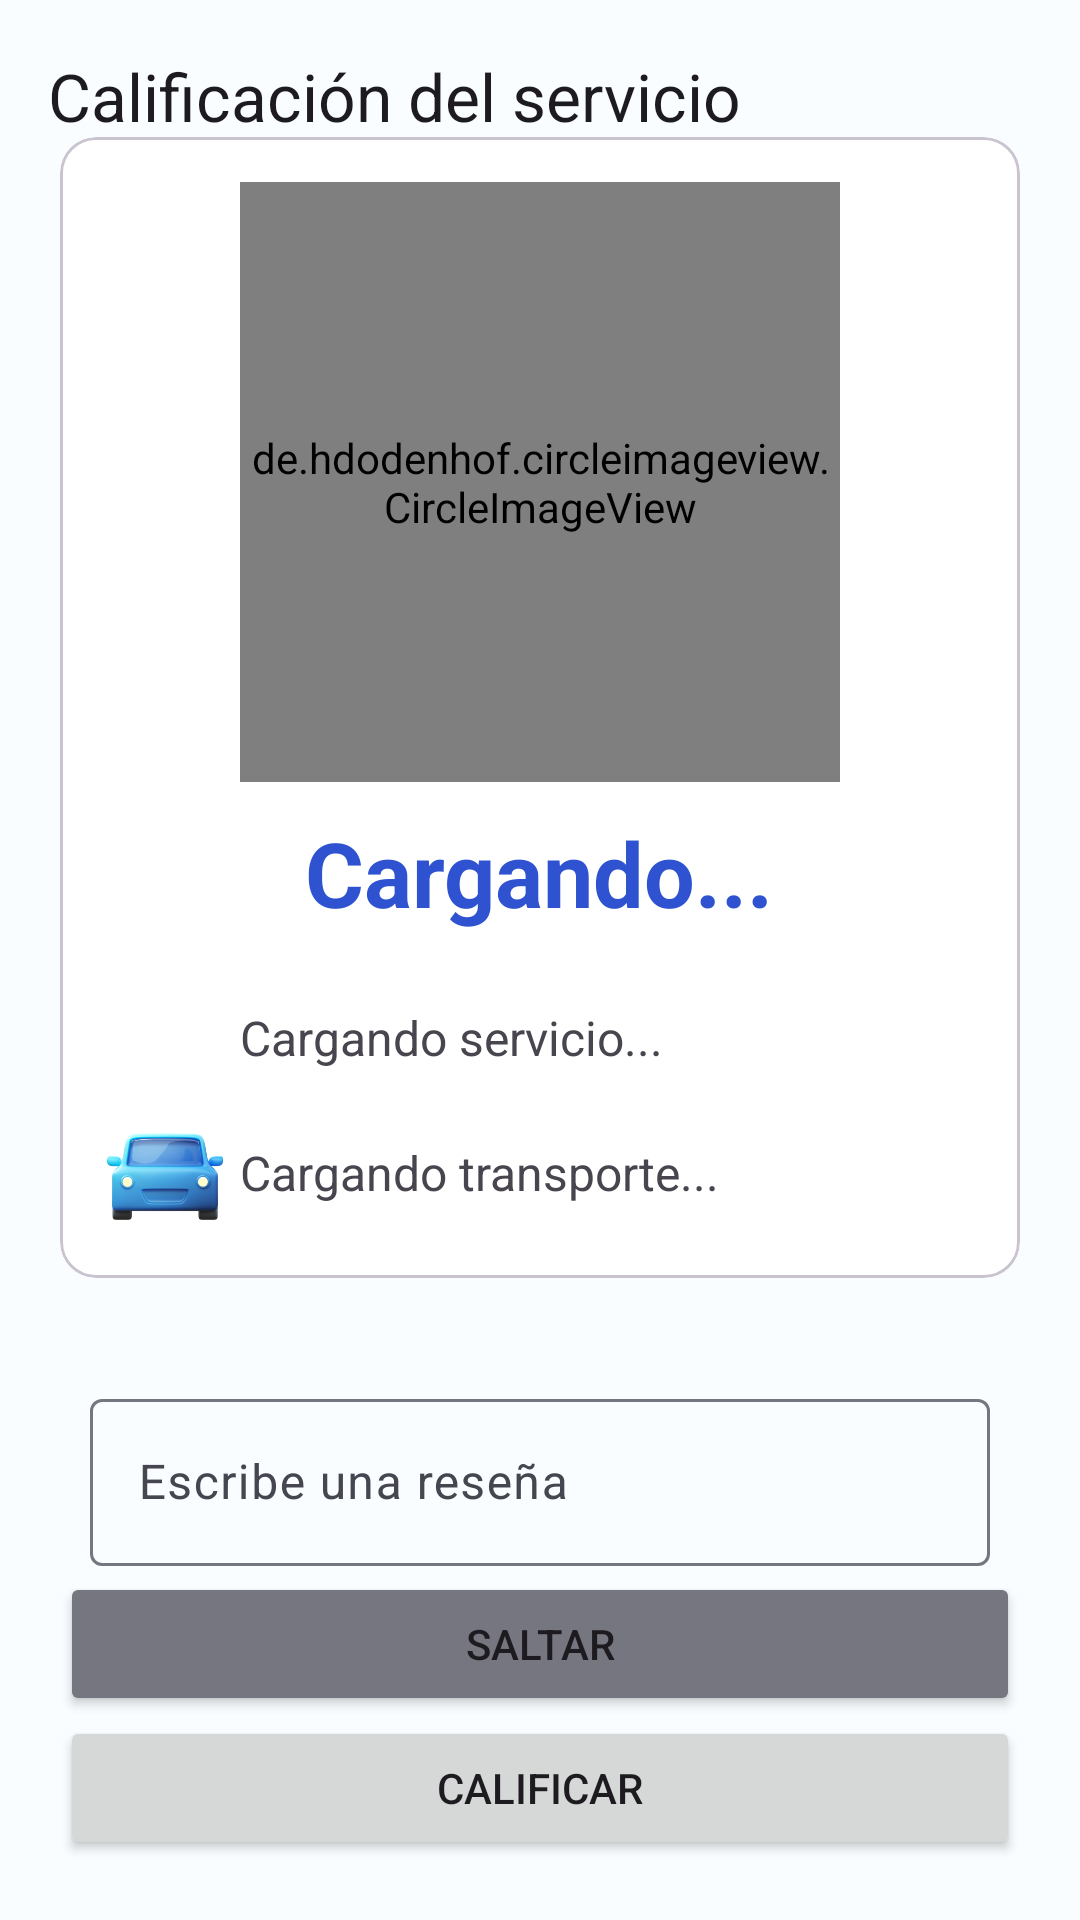

Screen size 1080px×1920px. Icon name, then its box in pixels as (x1, y1, x2, y2):
ilus transport: (107, 1133, 223, 1220)
